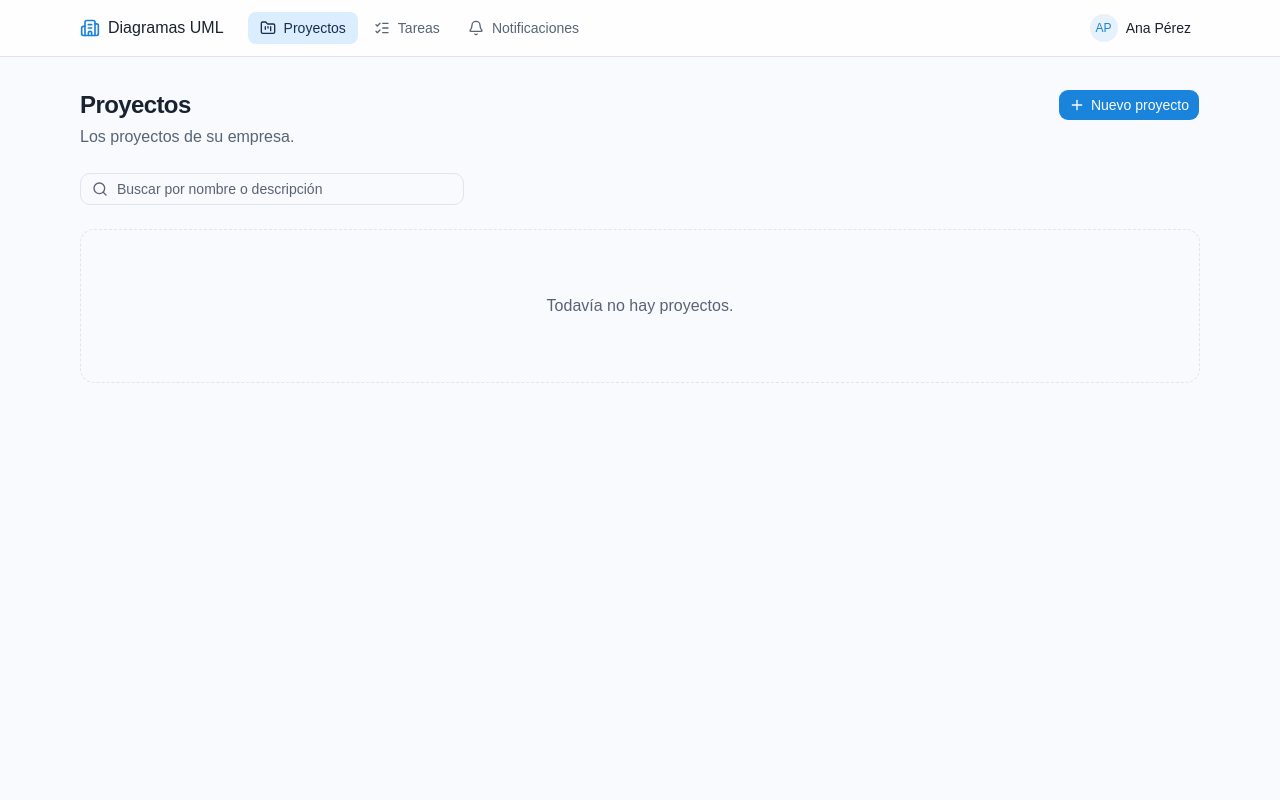
Test case: CU-04 Crear proyecto › muestra DUPLICATE_PROJECT sin cerrar el formulario
The width and height of the screenshot is (1280, 800).
Click the button "Nuevo proyecto".
click(1129, 105)  # box [1058,89,1200,121]
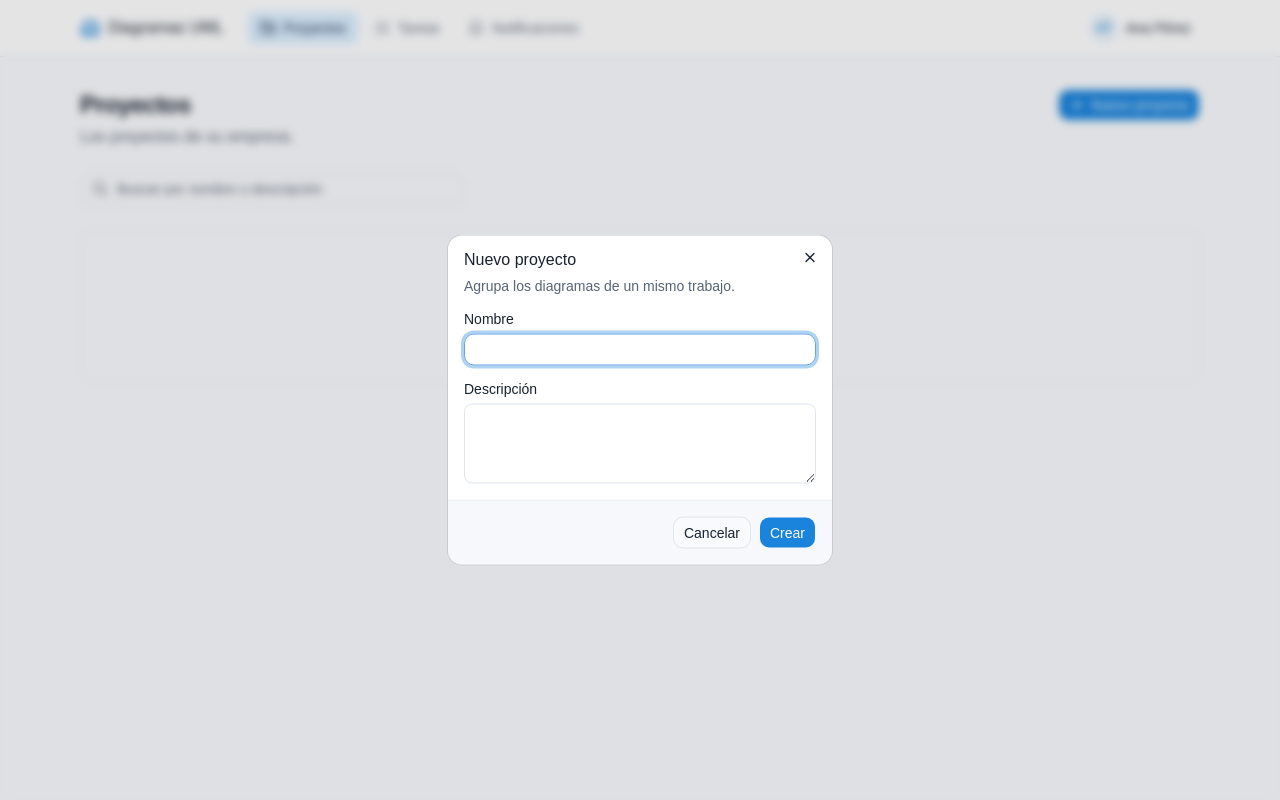
Type "Ventas" into the field labelled "Nombre".
click(640, 350); type("Ventas")  # box [464,334,816,366]
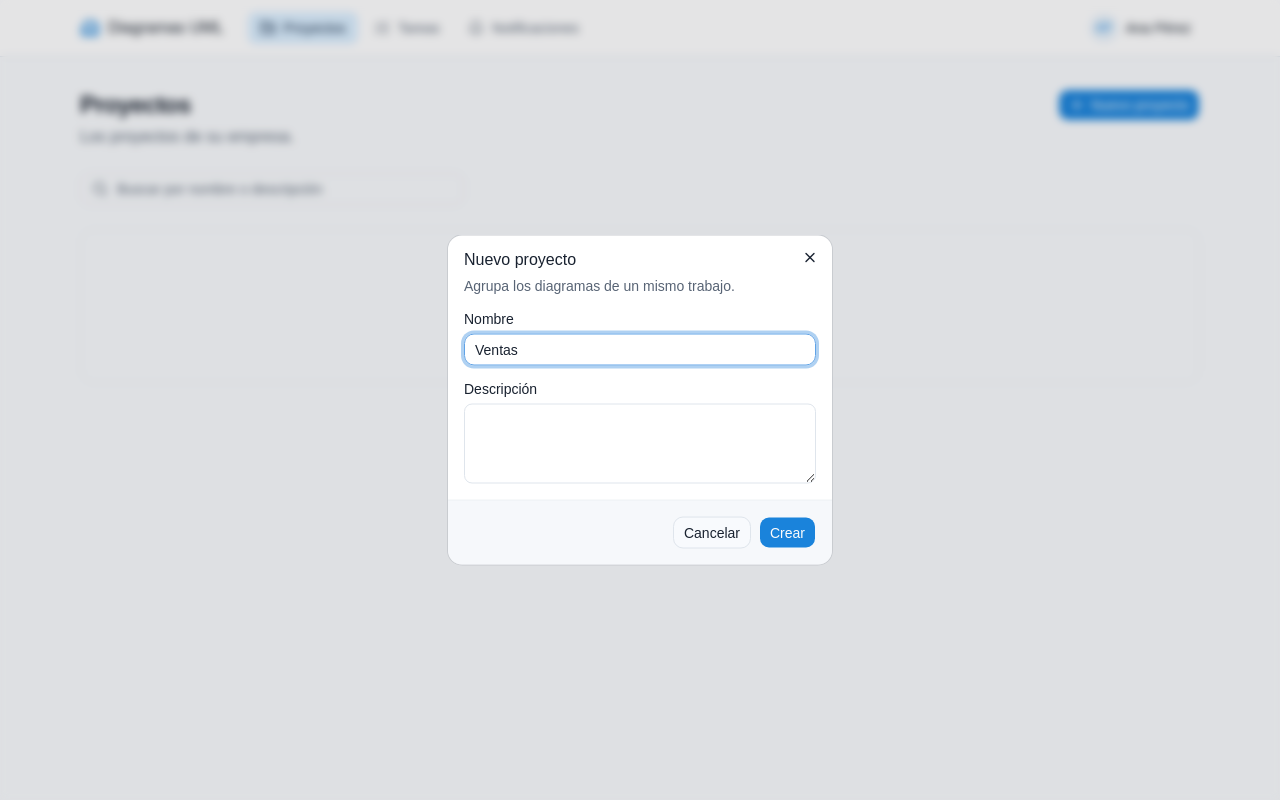
Click the button "Crear".
click(788, 532)  # box [759,516,816,548]
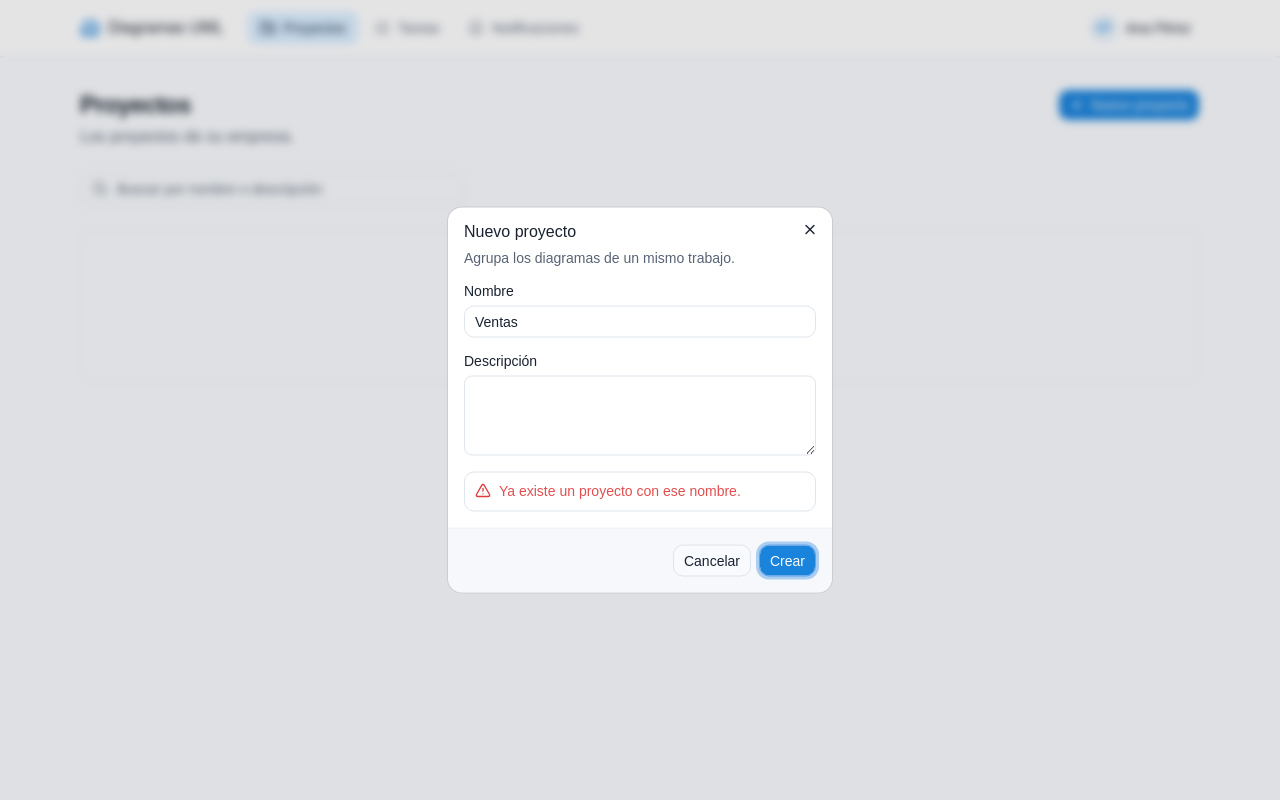
Check: the dialog is shown, box [448,208,832,592]
Check: the message reads "Ya existe un proyecto con ese nombre.", box [499,482,741,498]
